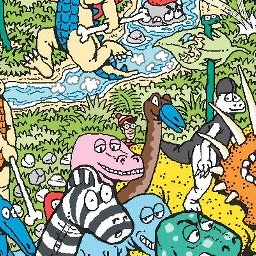waldo: (116, 112, 139, 144), (116, 112, 138, 140)
